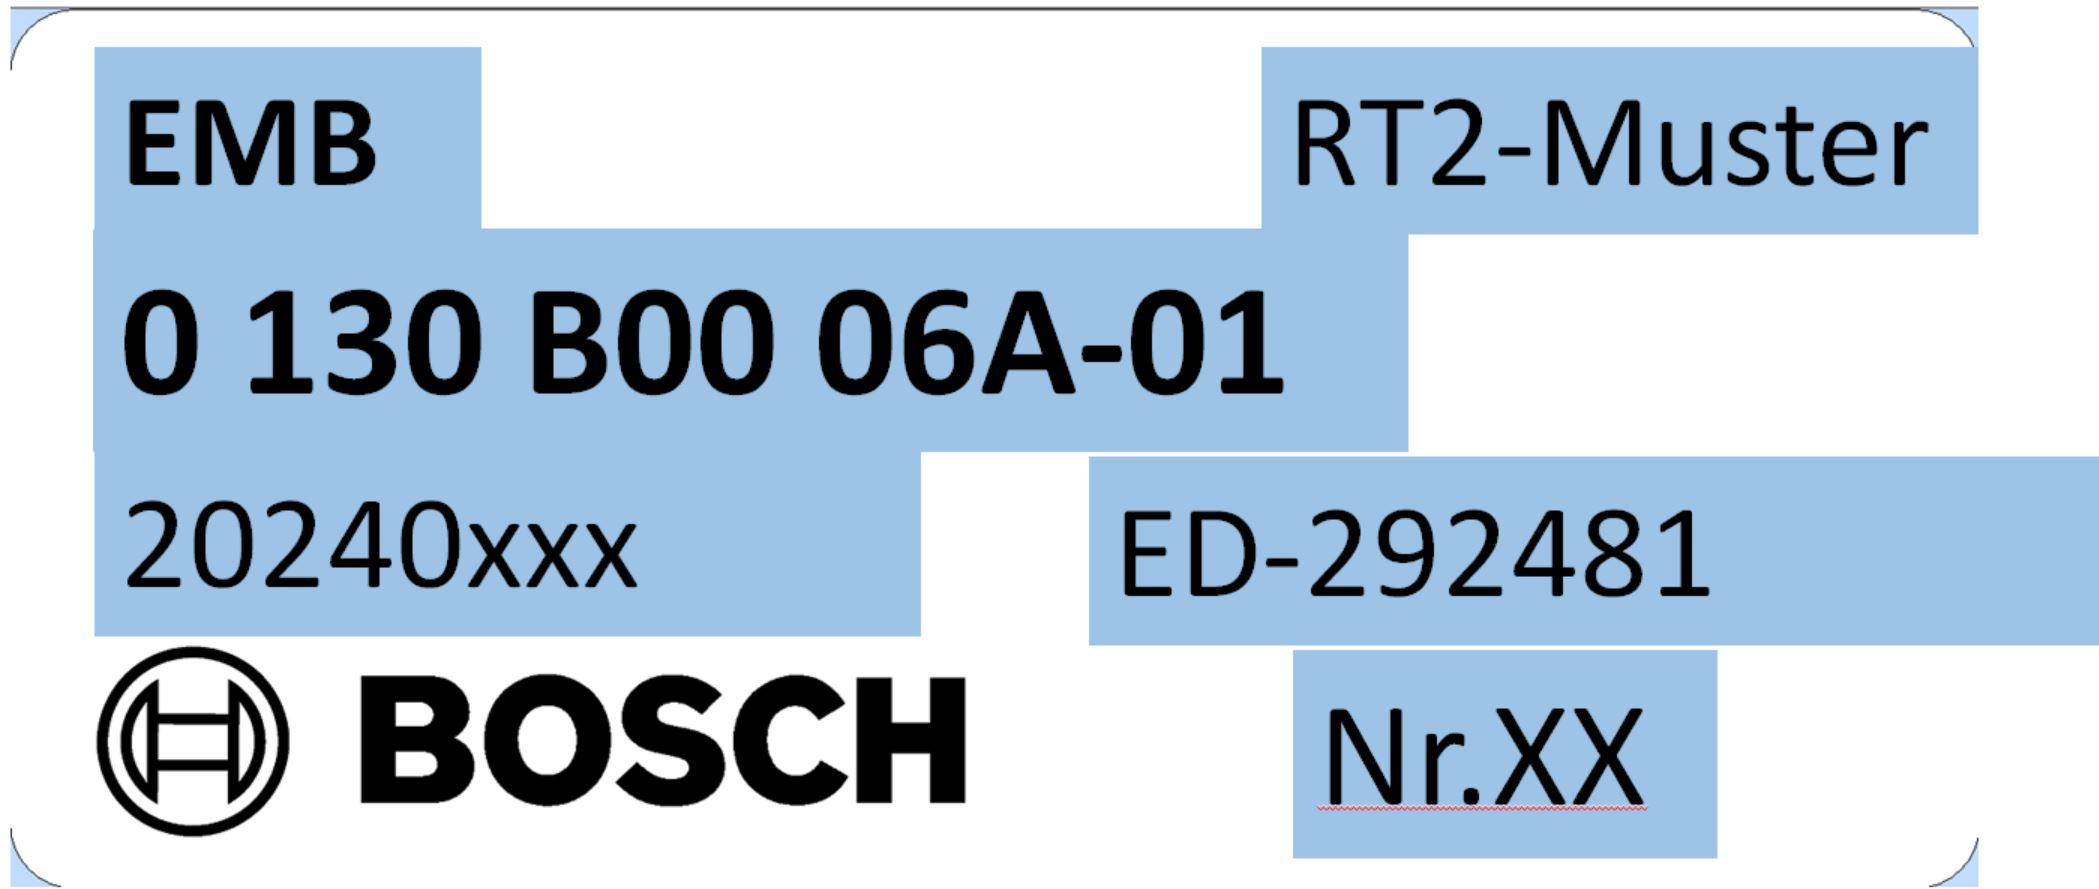p1: (116, 266, 1292, 408)
p3: (1100, 485, 1809, 619)
